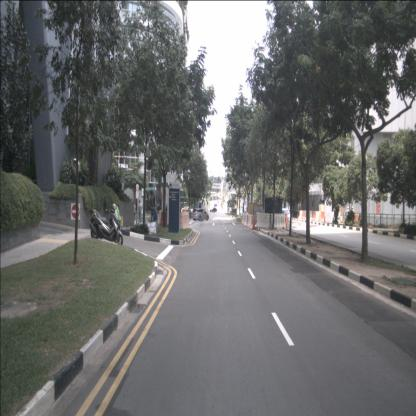barrier: (270, 213, 286, 229), (256, 212, 270, 228), (180, 212, 189, 228), (250, 215, 256, 230), (158, 210, 164, 225), (351, 213, 360, 222), (247, 214, 252, 229), (285, 213, 289, 228), (315, 212, 321, 221), (311, 212, 316, 221), (298, 210, 302, 219), (244, 214, 247, 226), (321, 212, 325, 221), (302, 210, 305, 220), (241, 214, 244, 224), (309, 211, 312, 221), (246, 215, 248, 227)
cone: (309, 219, 312, 228)
